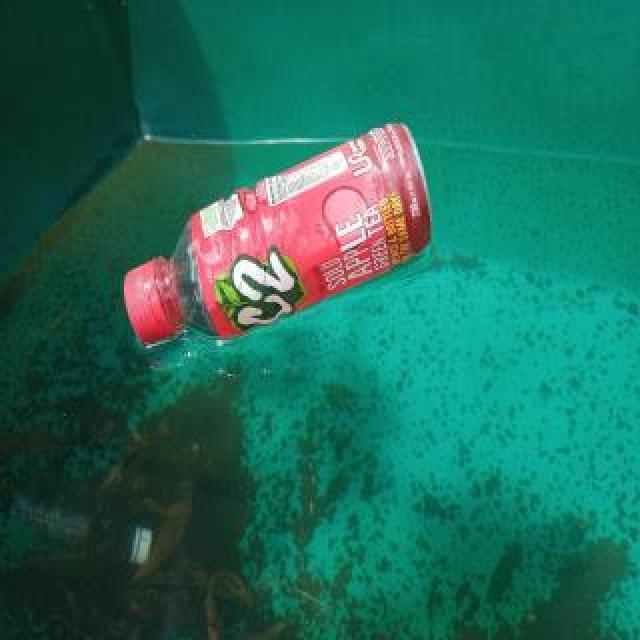Bottle: (112, 113, 444, 359)
